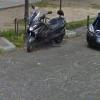Motorcycle: (18, 7, 75, 54)
